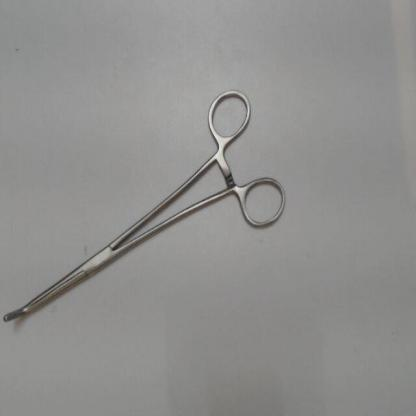Lahey Forceps: (2, 75, 292, 333)
